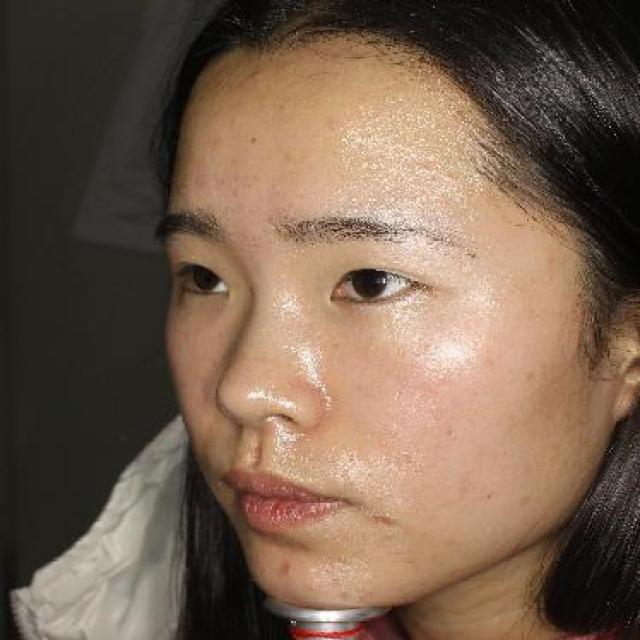dark spot: (363, 509, 407, 529)
whiteheads: (361, 130, 382, 144), (419, 160, 438, 174), (421, 341, 440, 354), (409, 194, 424, 209), (250, 66, 265, 80)
